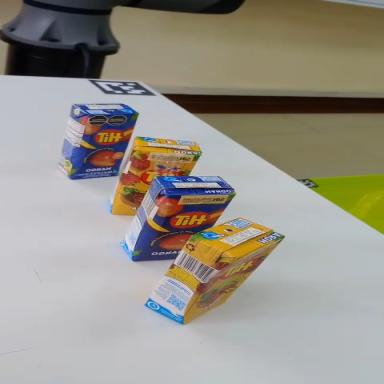HIT-MANGO: (108, 147, 238, 286), (59, 100, 138, 184)
HIT-MORA: (134, 191, 284, 343), (106, 122, 204, 236)
cara_F: (122, 161, 237, 287), (90, 121, 206, 225), (180, 224, 285, 335), (67, 98, 139, 193)
